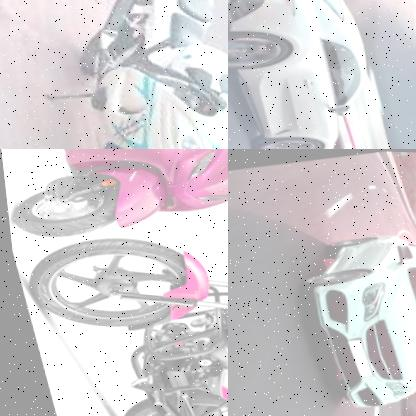bike: (18, 184, 228, 416), (18, 0, 228, 149), (0, 149, 228, 255)
car: (293, 218, 416, 414), (228, 0, 388, 149)
